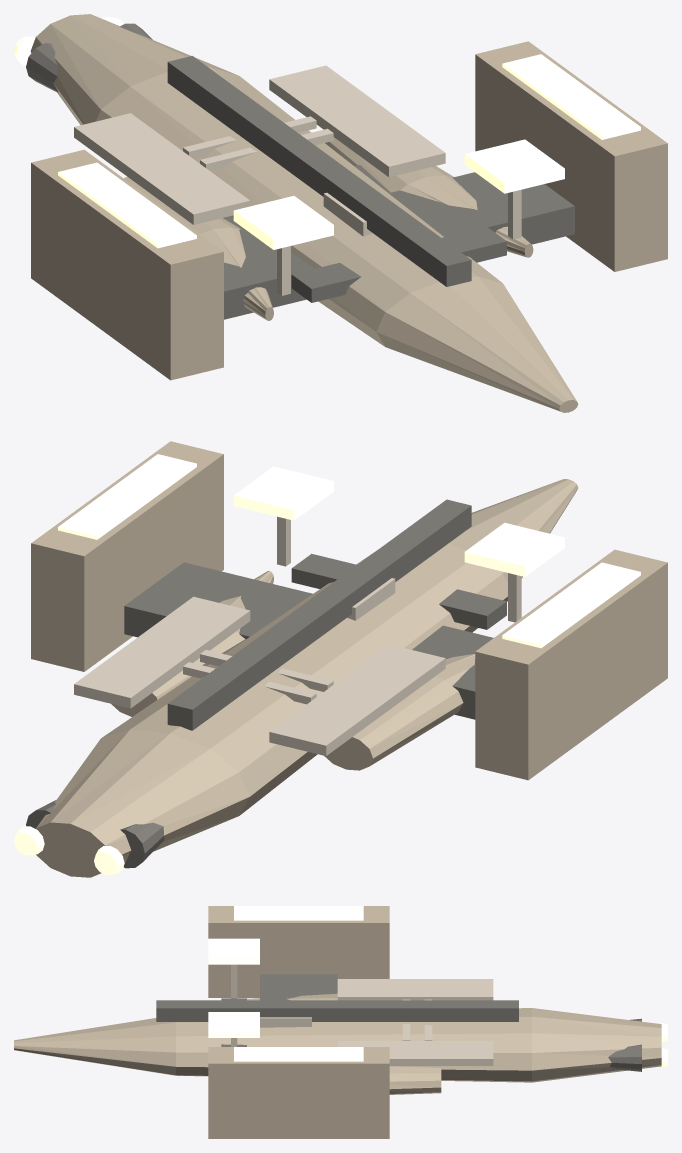
The picture shows the model from 3 angles, top to bottom: view 1: azimuth 30°, elevation 25°; view 2: azimuth 150°, elevation 25°; view 3: azimuth 270°, elevation 25°; orthographic projection. The views are drawn at different scales.
Bounding box in the file's own units: 5.94 × 1.6 × 10.4.
